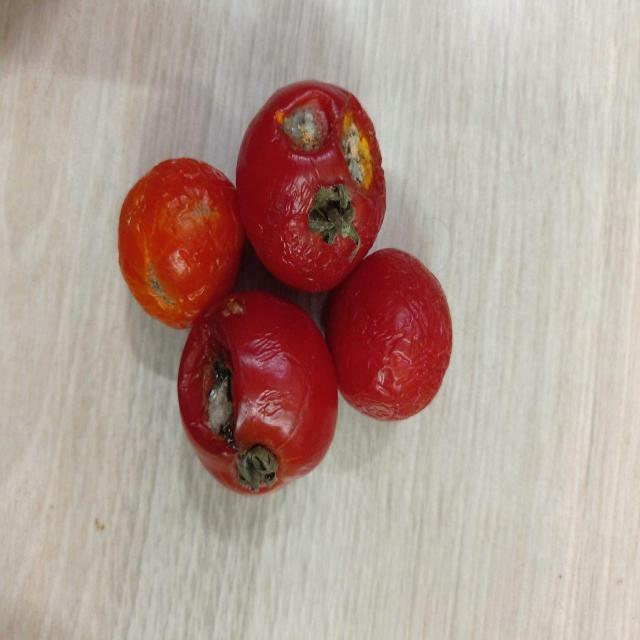Rotten: (176, 285, 338, 497), (236, 79, 386, 292)
